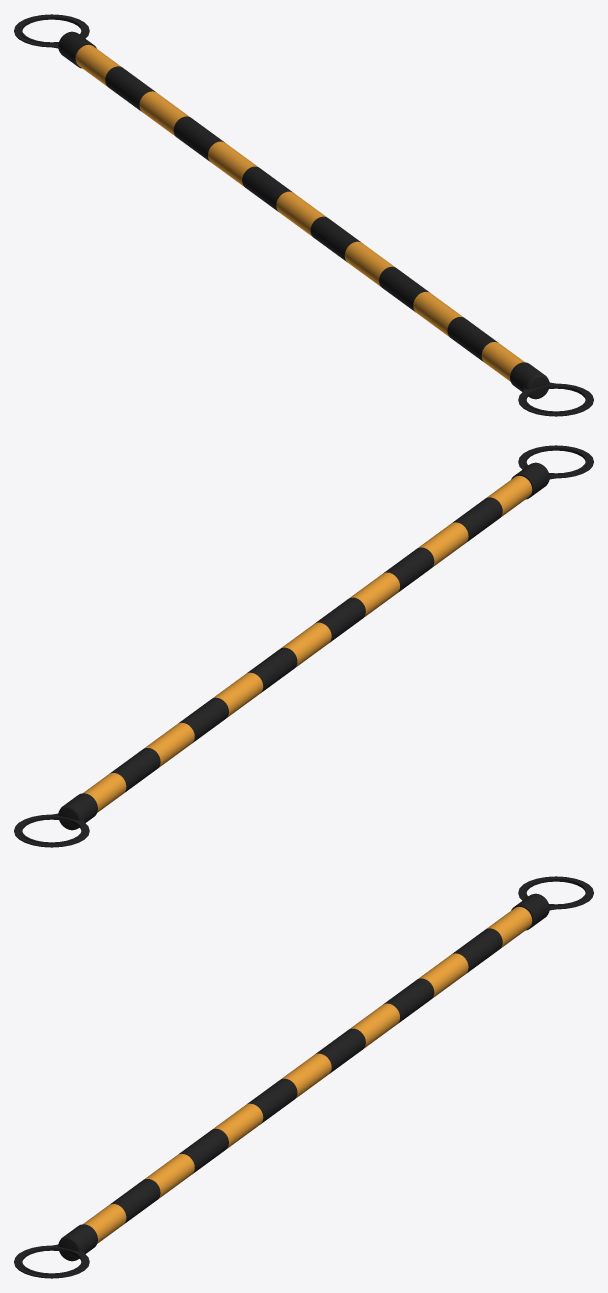
3 renders of one model, top to bottom at view 1: azimuth 30°, elevation 25°; view 2: azimuth 150°, elevation 25°; view 3: azimuth 330°, elevation 25°, orthographic.
Visible parts, largest first — view 1: corrn_bar; view 2: corrn_bar; view 3: corrn_bar.
Part boxes in pixels (<box>): corrn_bar: <box>14,14,593,416</box>; corrn_bar: <box>14,445,593,847</box>; corrn_bar: <box>14,876,593,1278</box>.
Size of the model in its own units: 10.51 by 3.76 by 150.
